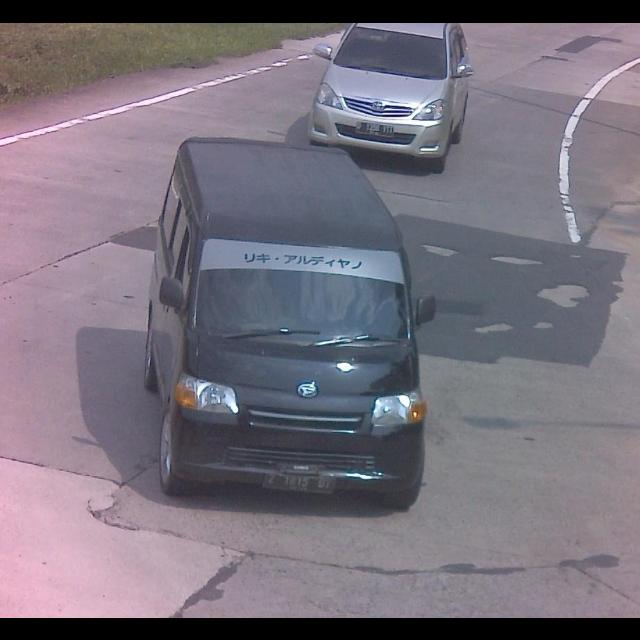plate: (264, 471, 336, 493)
